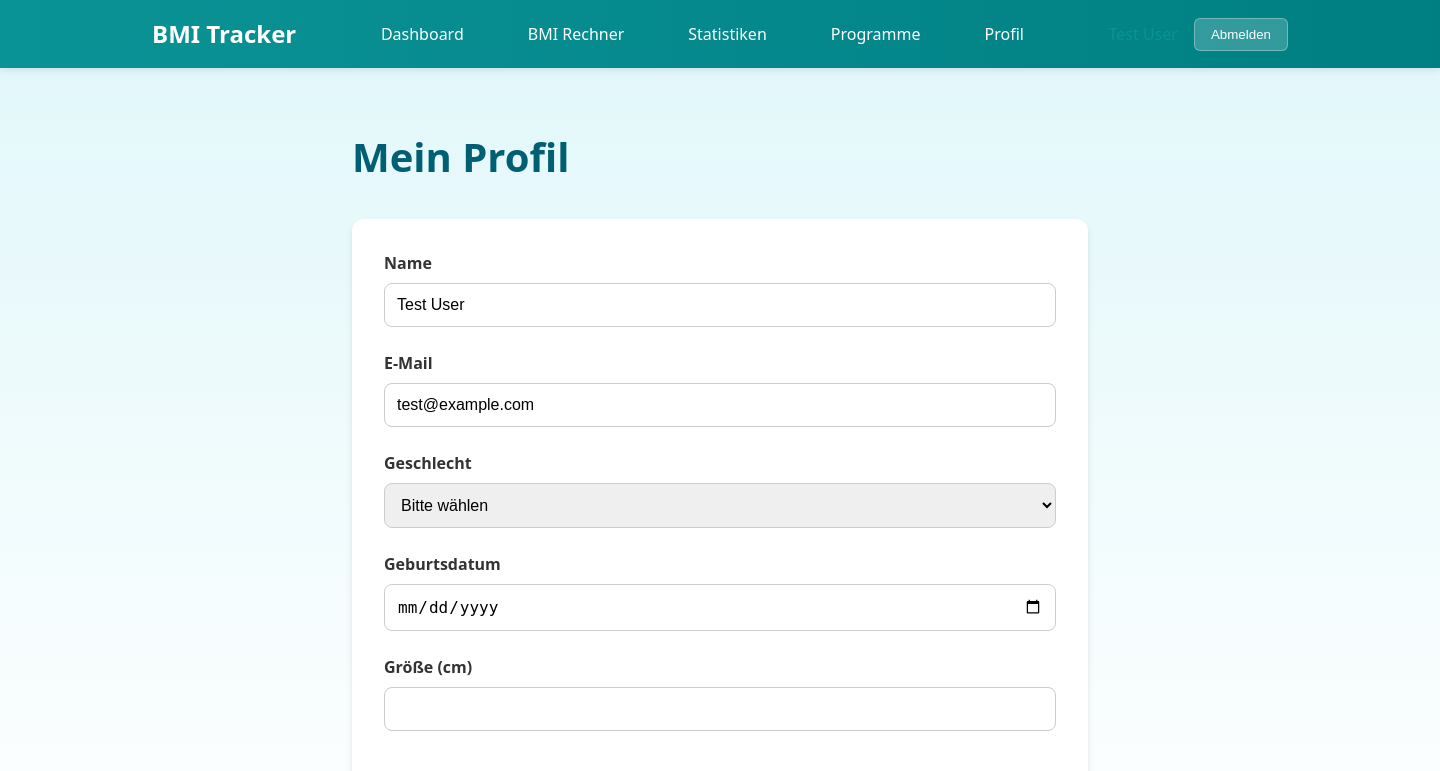
Profile › updates profile successfully
Replace the text in the field showing "Test User" below "Name" with "Updated Name" at (720, 305), box [384, 283, 1056, 327]
(page scrolled)
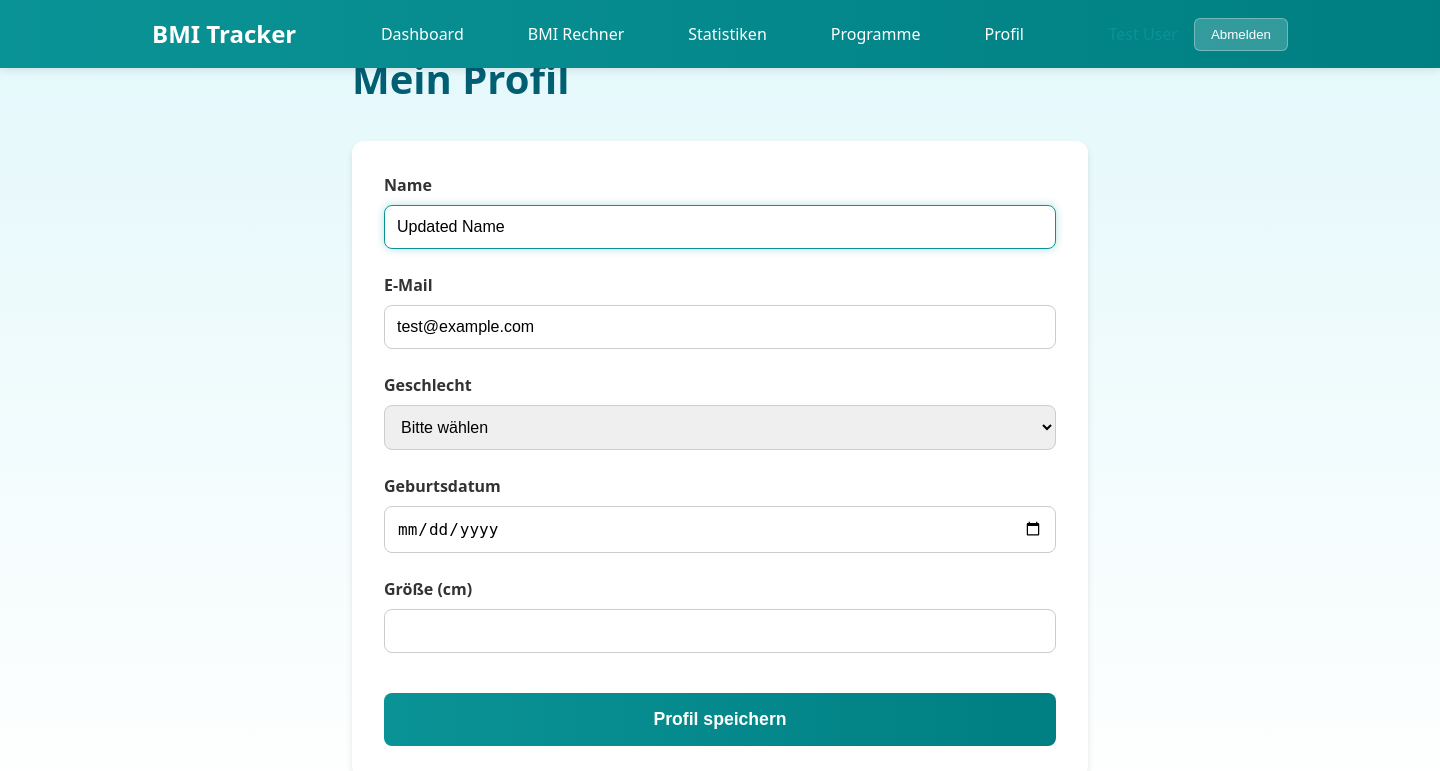
Click the button "Profil speichern" at (720, 719), box [384, 693, 1056, 746]
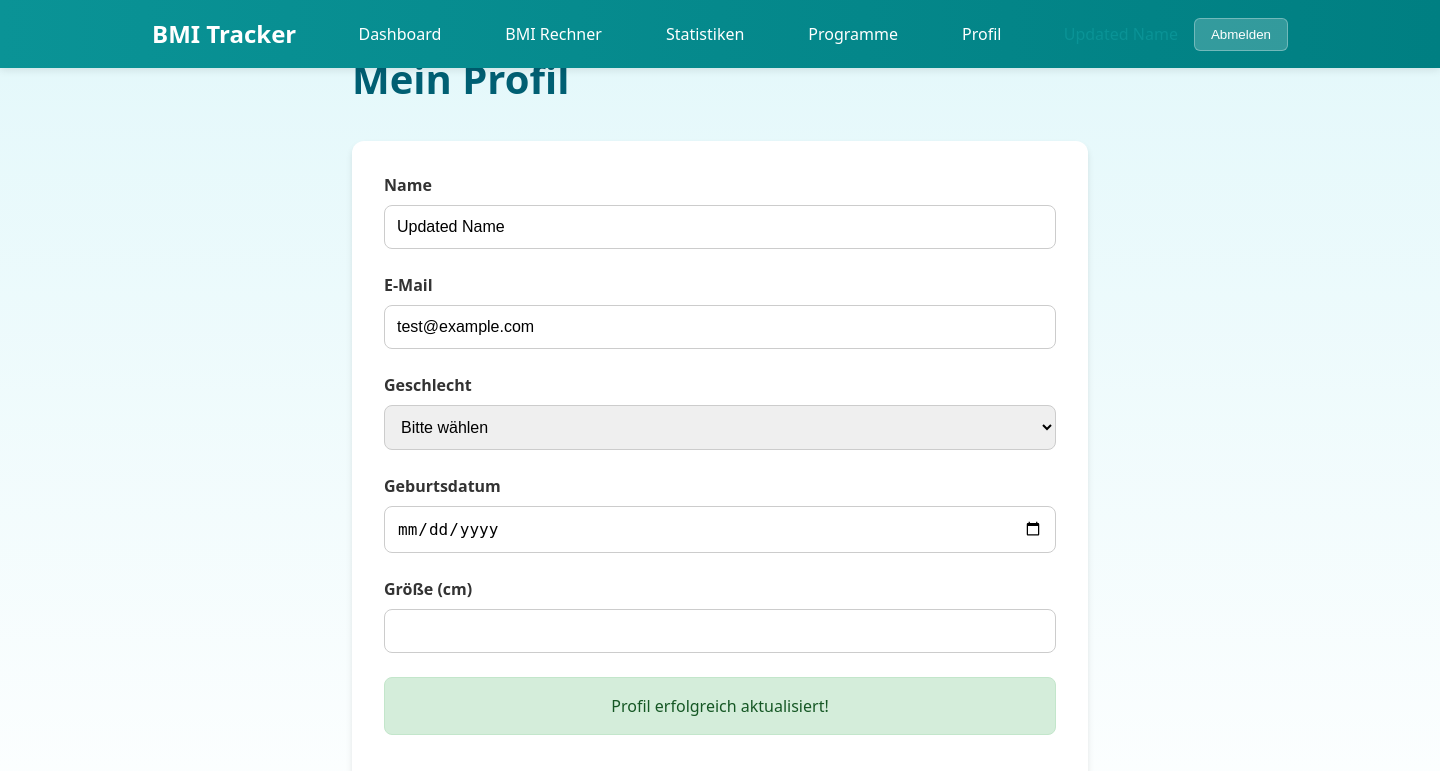
Result: the text "Profil erfolgreich aktualisiert!" is shown at [384, 677, 1056, 735]
